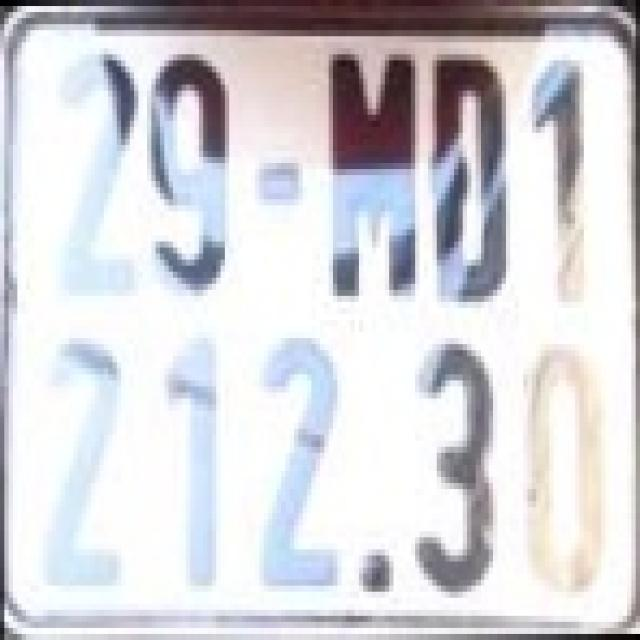0: (523, 344, 601, 592)
1: (156, 326, 233, 592), (528, 54, 592, 302)
2: (251, 326, 346, 592), (39, 326, 134, 592), (52, 42, 138, 296)
3: (411, 338, 497, 592)
9: (143, 48, 238, 296)
D: (428, 48, 510, 308)
M: (316, 36, 424, 314)
